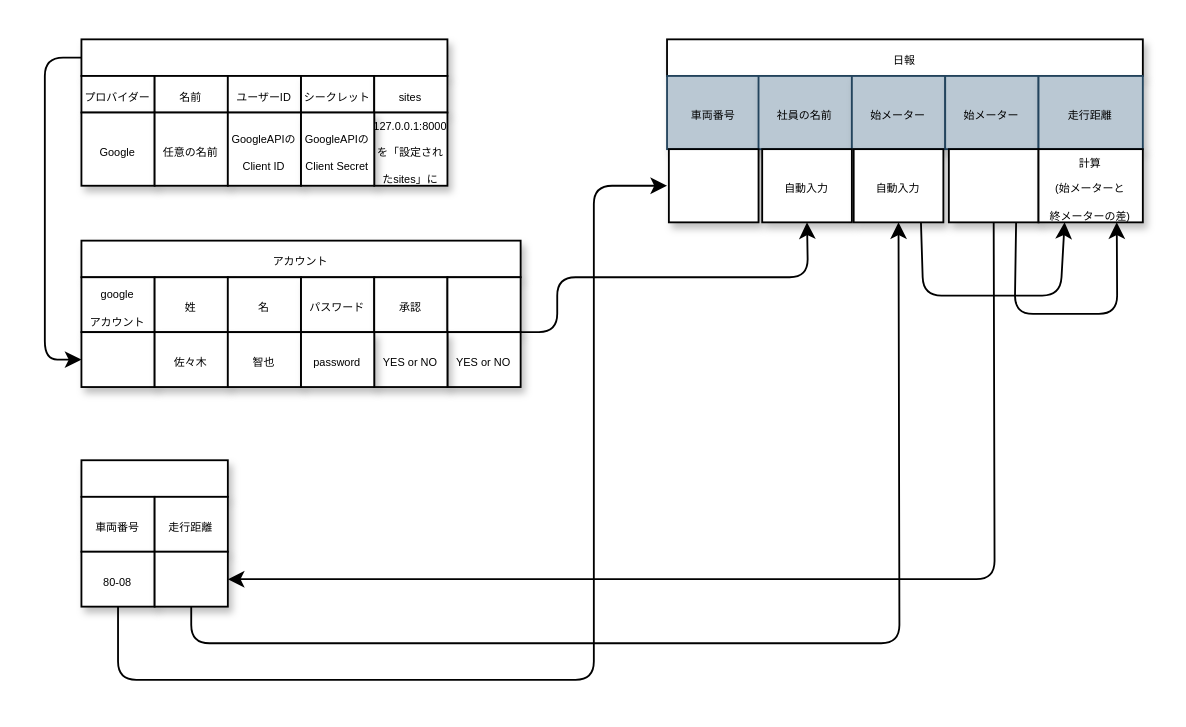
This 1186x727 diagram has some shape labels left out. The shapes that lost their labels are listed below. From the top down, each one's centre as x and y in pixels, then its label:
the point at 265,59: googleアカウント
the point at 715,187: 選択式
the point at 995,187: 入力
the point at 485,306: 管理権限
the point at 155,480: 車両
the point at 192,581: 100000km
